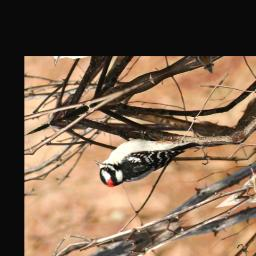Woodpecker: (90, 112, 204, 195)
